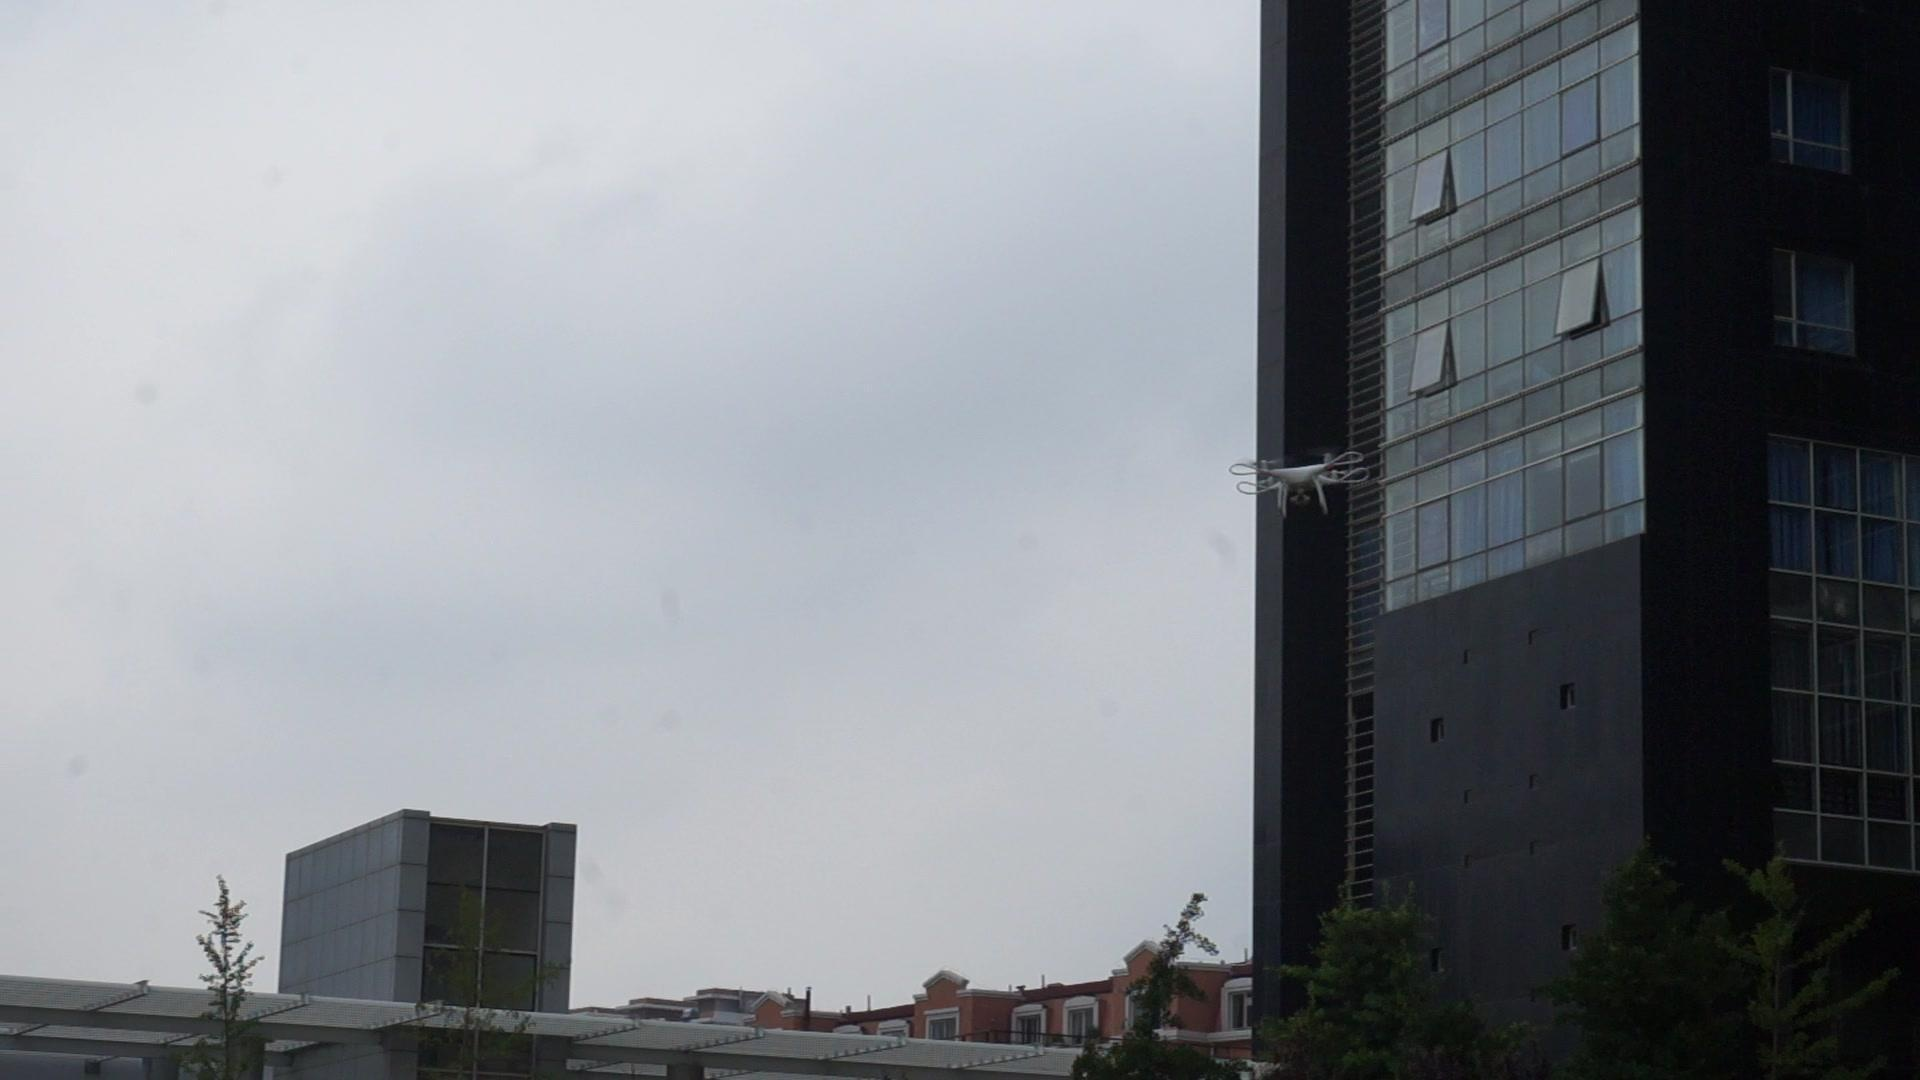UAV: (1229, 451, 1371, 520)
